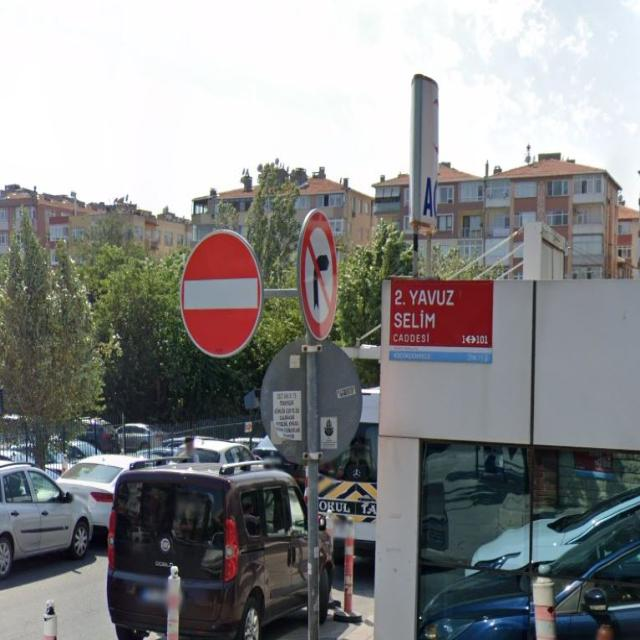girisyok: (180, 230, 262, 356)
sagadonulmez: (298, 207, 338, 341)
